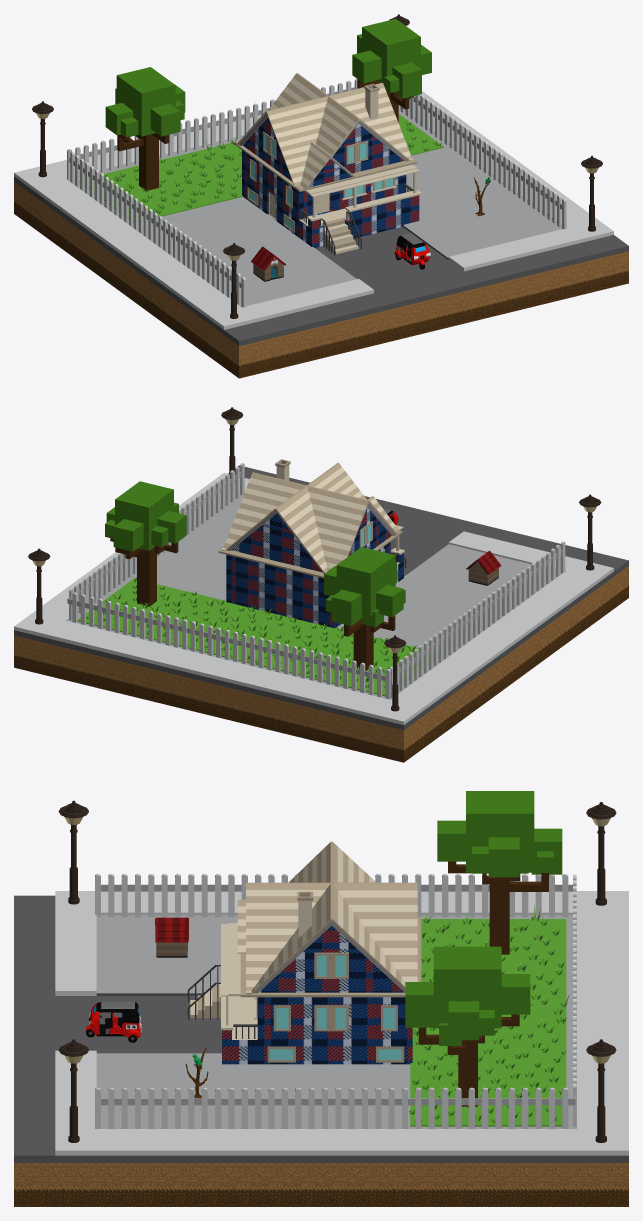
3 views of the same model, one above another, from view 1: azimuth 30°, elevation 25°; view 2: azimuth 150°, elevation 25°; view 3: azimuth 270°, elevation 25° (orthographic). The views are drawn at different scales.
Parts seen in each view (by area): view 1: Cube.004, Cube.171, VEHICLES_TUC_TUC, OBJRANDOM_DOGHOUSE; view 2: Cube.004, Cube.171, OBJRANDOM_DOGHOUSE; view 3: Cube.004, Cube.171, VEHICLES_TUC_TUC, OBJRANDOM_DOGHOUSE.
Boxes of the visible parts, x1,y1,x2,y2 form: Cube.004: [14, 14, 628, 378]; Cube.171: [233, 73, 422, 255]; VEHICLES_TUC_TUC: [394, 233, 430, 269]; OBJRANDOM_DOGHOUSE: [251, 246, 285, 281]; Cube.004: [14, 407, 628, 762]; Cube.171: [218, 459, 406, 627]; OBJRANDOM_DOGHOUSE: [466, 550, 501, 585]; Cube.004: [14, 791, 628, 1206]; Cube.171: [187, 841, 421, 1064]; VEHICLES_TUC_TUC: [86, 1001, 141, 1042]; OBJRANDOM_DOGHOUSE: [155, 917, 188, 957].
Bounding box in the file's own units: 4000 × 1604 × 4000.
38 materials, 4 textured.
